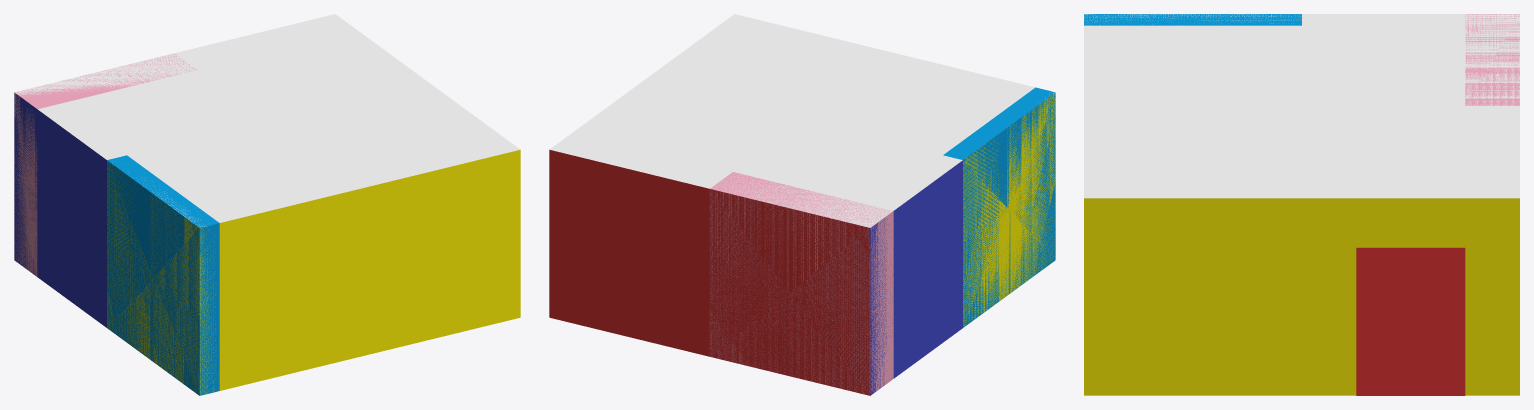
The picture shows the model from 3 angles, left to right: view 1: azimuth 30°, elevation 25°; view 2: azimuth 150°, elevation 25°; view 3: azimuth 270°, elevation 25°; orthographic projection. The views are drawn at different scales.
Visible parts, largest first — view 1: roof, south_left, south_right, blue_west, west_right, west_left, pink_north; view 2: roof, notrh_left, notrh_right, pink_north, blue_west, west_right, west_left; view 3: roof, east_right, east_left, door, pink_north, blue_west.
Part boxes in pixels (x1,y1,x2,y2): roof: (15, 14, 519, 227); south_left: (360, 149, 520, 356); south_right: (199, 189, 360, 395); blue_west: (107, 155, 219, 395); west_right: (14, 93, 106, 327); west_left: (107, 160, 199, 395); pink_north: (14, 54, 196, 276); roof: (550, 14, 1054, 227); notrh_left: (709, 189, 870, 395); notrh_right: (549, 149, 709, 356); pink_north: (709, 172, 893, 395); blue_west: (943, 87, 1055, 327); west_right: (870, 160, 962, 395); west_left: (963, 93, 1055, 326); roof: (1084, 14, 1519, 198); east_right: (1084, 198, 1301, 395); east_left: (1302, 198, 1519, 395); door: (1356, 247, 1465, 395); pink_north: (1465, 14, 1519, 105); blue_west: (1084, 14, 1301, 25).
Bounding box in the file's own units: 32.06 × 16 × 32.
9 materials, 9 textured.
